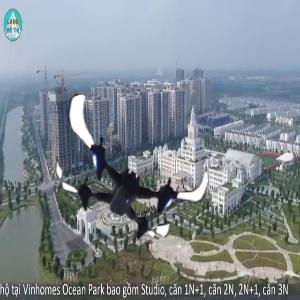drone: (52, 99, 214, 261)
